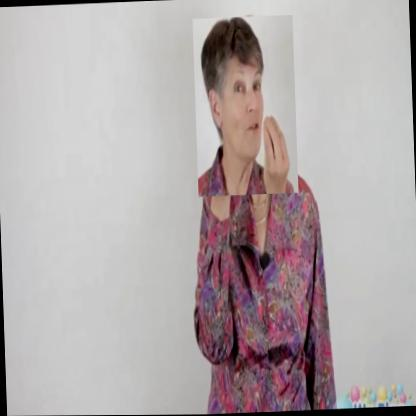Food: (192, 15, 298, 197)
